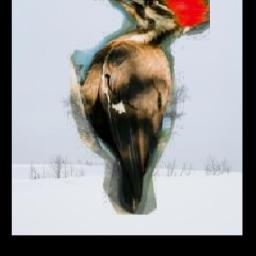Woodpecker: (66, 0, 211, 215)
